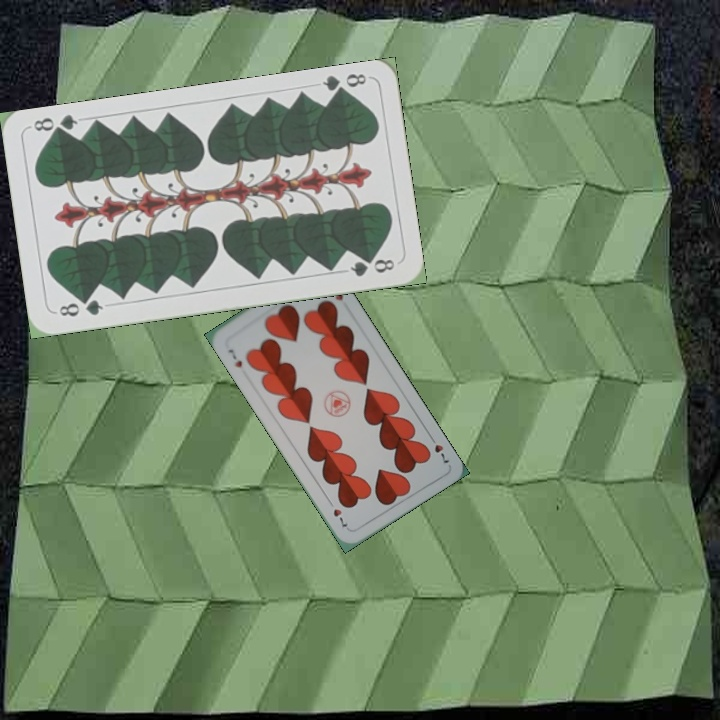G8: (318, 69, 369, 100), (55, 295, 106, 320)
H7: (425, 431, 452, 466), (224, 345, 245, 370)
